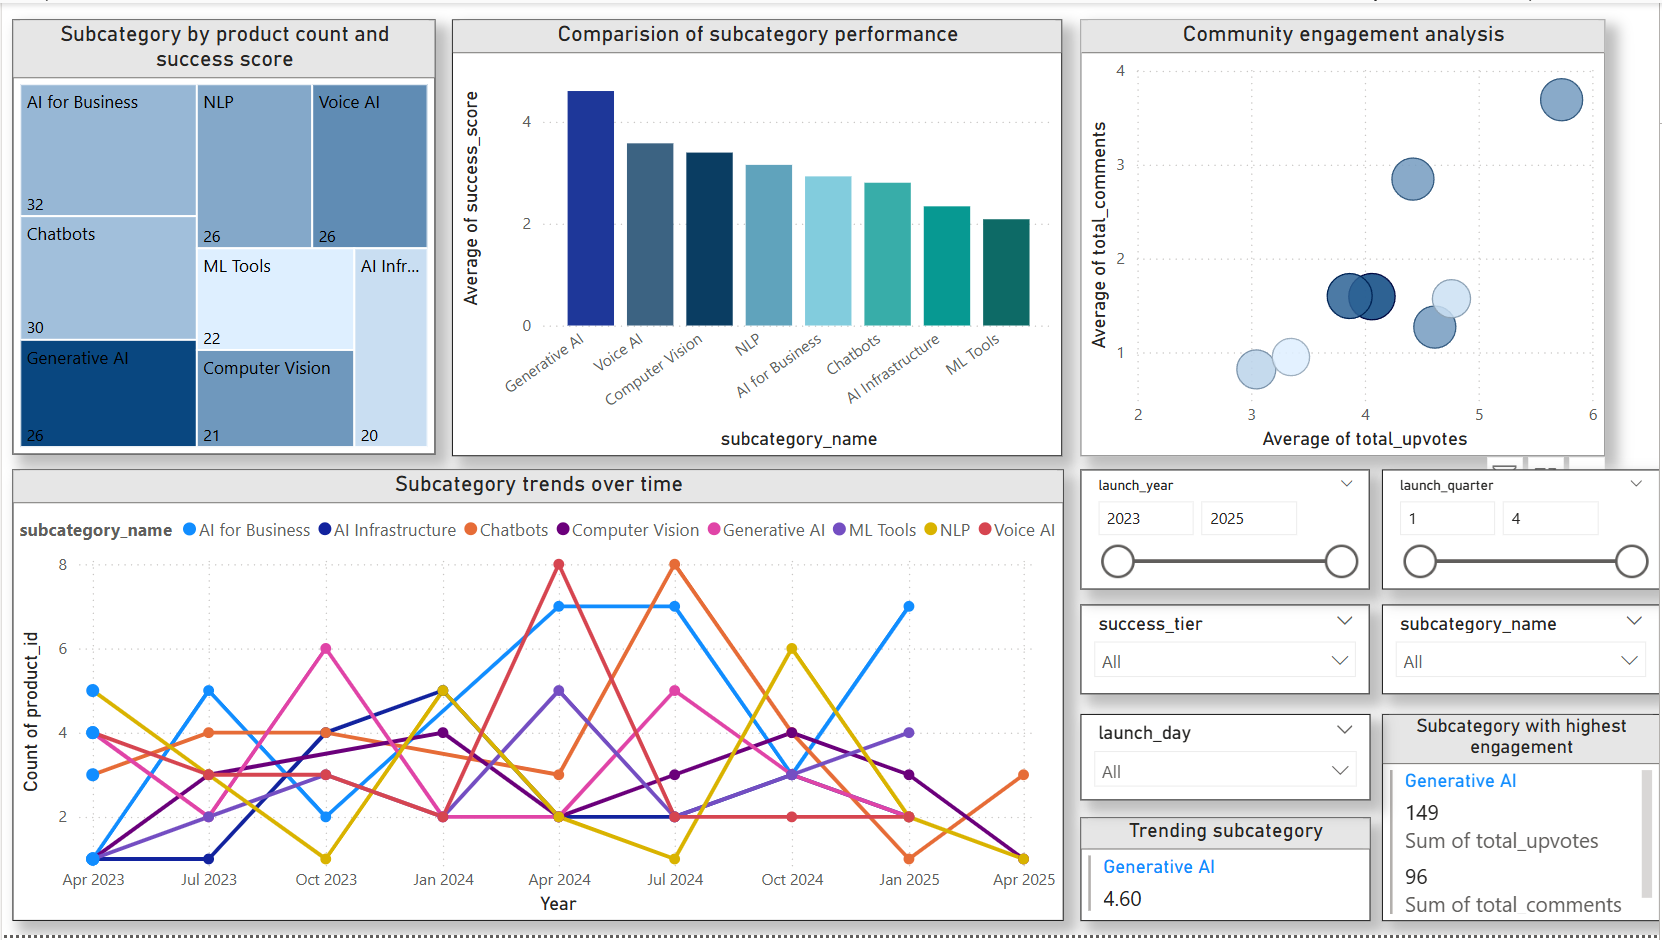

This screenshot's page, from the dashboard's own definition file:
{"tool":"powerbi","page":{"name":"AI LANDSCAPE ANALYSIS","canvas":[1280,720],"ordinal":1},"visuals":[{"type":"treemap","title":"Subcategory by product count and success score","fields":{"Group":["ai_landscape.subcategory_name"],"Values":["CountNonNull(ai_landscape.product_id)"]},"box":[8.1,12.7,326.8,336],"z":0},{"type":"columnChart","title":"Comparision of subcategory performance","fields":{"Category":["ai_landscape.subcategory_name"],"Y":["Avg(ai_landscape.success_score)"]},"box":[347.6,12.7,471.6,337.2],"z":1000},{"type":"scatterChart","title":"Community engagement analysis","fields":{"X":["Avg(ai_landscape.total_upvotes)"],"Y":["Avg(ai_landscape.total_comments)"],"Size":["CountNonNull(ai_landscape.product_id)"],"Category":["ai_landscape.subcategory_name"]},"box":[833.1,12.7,405.6,337.2],"z":2000},{"type":"lineChart","title":"Subcategory trends over time","fields":{"Category":["ai_landscape.Sort Order.Variation.Date Hierarchy.Year","ai_landscape.Sort Order.Variation.Date Hierarchy.Quarter"],"Series":["ai_landscape.subcategory_name"],"Y":["CountNonNull(ai_landscape.product_id)"]},"box":[8.1,360.4,812.3,348.8],"z":3000},{"type":"slicer","fields":{"Values":["ai_landscape.success_tier"]},"box":[833.1,464.7,223.6,69.5],"z":4000},{"type":"slicer","fields":{"Values":["ai_landscape.launch_year"]},"box":[833.1,360.4,223.6,92.7],"z":5000},{"type":"slicer","fields":{"Values":["ai_landscape.subcategory_name"]},"box":[1066,464.7,214.4,69.5],"z":6000},{"type":"slicer","fields":{"Values":["ai_landscape.launch_quarter"]},"box":[1066,360.4,214.4,92.7],"z":7000},{"type":"multiRowCard","title":"Trending subcategory","fields":{"Values":["ai_landscape.subcategory_name","Avg(ai_landscape.success_score)"]},"box":[832.6,629.2,223.7,80.1],"z":8000},{"type":"multiRowCard","title":"Subcategory with highest engagement","fields":{"Values":["ai_landscape.subcategory_name","Sum(ai_landscape.total_upvotes)","Sum(ai_landscape.total_comments)"]},"box":[1066,549.2,214.4,159.9],"z":9000},{"type":"slicer","fields":{"Values":["ai_landscape.launch_day"]},"box":[832.6,549.1,223.7,67],"z":10000}]}

Visuals, with their boxes in screenshot pixels (x1, y1, x2, y2), scaled from the page's 1280x720 canvas onto the 1662x940 screenshot:
"Subcategory by product count and success score" treemap: x1=11, y1=17, x2=435, y2=455
"Comparision of subcategory performance" columnChart: x1=451, y1=17, x2=1064, y2=457
"Community engagement analysis" scatterChart: x1=1082, y1=17, x2=1608, y2=457
"Subcategory trends over time" lineChart: x1=11, y1=471, x2=1065, y2=926
slicer - ai_landscape.success_tier: x1=1082, y1=607, x2=1372, y2=697
slicer - ai_landscape.launch_year: x1=1082, y1=471, x2=1372, y2=592
slicer - ai_landscape.subcategory_name: x1=1384, y1=607, x2=1661, y2=697
slicer - ai_landscape.launch_quarter: x1=1384, y1=471, x2=1661, y2=592
"Trending subcategory" multiRowCard: x1=1081, y1=821, x2=1372, y2=926
"Subcategory with highest engagement" multiRowCard: x1=1384, y1=717, x2=1661, y2=926
slicer - ai_landscape.launch_day: x1=1081, y1=717, x2=1372, y2=804
